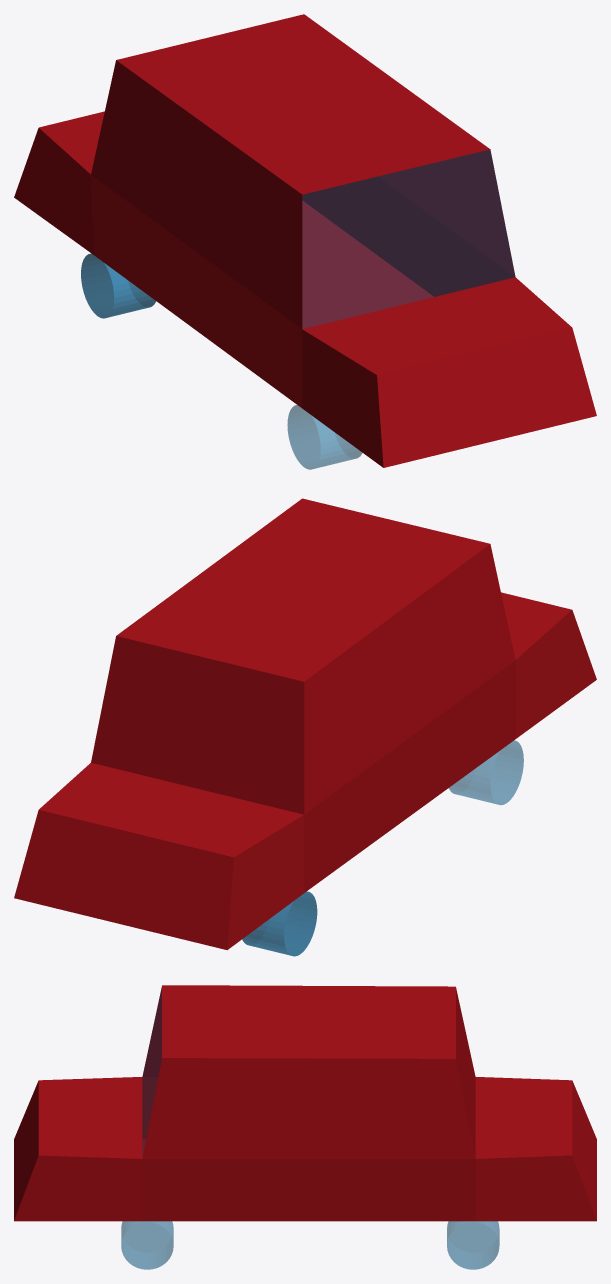
The model's file is testcar.obj.
3 renders of one model, top to bottom at view 1: azimuth 30°, elevation 25°; view 2: azimuth 150°, elevation 25°; view 3: azimuth 270°, elevation 25°, orthographic. The views are drawn at different scales.
Visible parts, largest first — view 1: Cube_Cube.001; view 2: Cube_Cube.001; view 3: Cube_Cube.001.
Boxes of the visible parts, x1,y1,x2,y2 form: Cube_Cube.001: (14, 14, 596, 469); Cube_Cube.001: (14, 498, 596, 956); Cube_Cube.001: (14, 985, 596, 1269).
Bounding box in the file's own units: 2 × 2.37 × 6.
